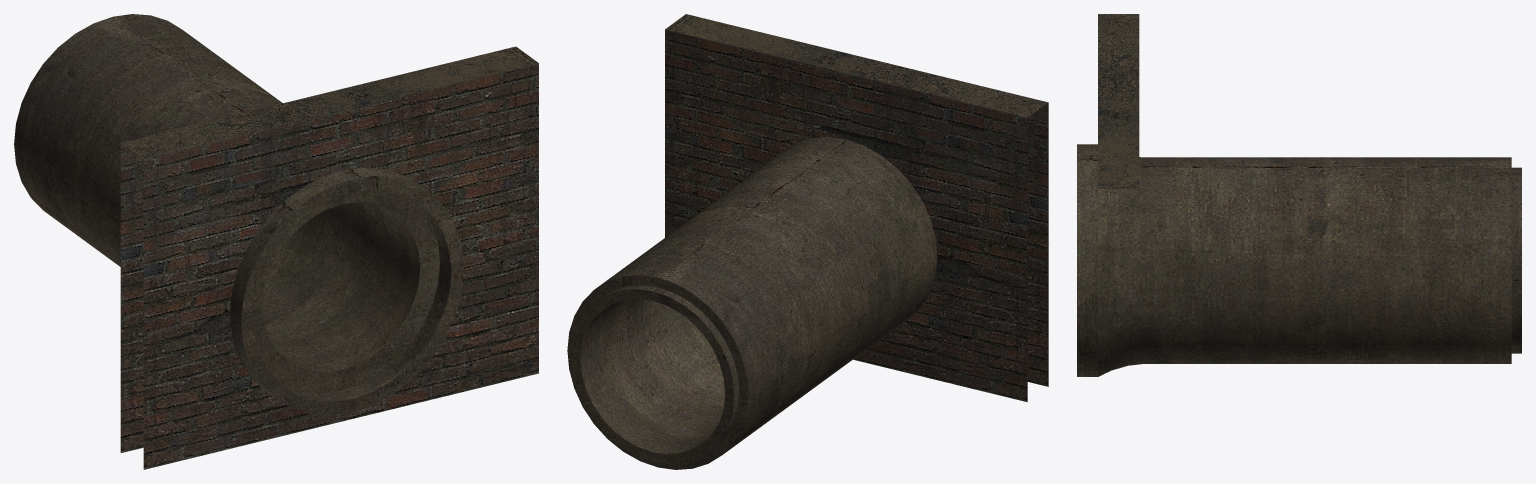
File: wall_hs_1_hole_2.glb
3 renders of one model, left to right at view 1: azimuth 30°, elevation 25°; view 2: azimuth 150°, elevation 25°; view 3: azimuth 270°, elevation 25°, orthographic. The views are drawn at different scales.
Parts seen in each view (by area): view 1: wall_hs_1_hole_2; view 2: wall_hs_1_hole_2; view 3: wall_hs_1_hole_2.
Part boxes in pixels (x1,y1,x2,y2): wall_hs_1_hole_2: [14, 14, 538, 469]; wall_hs_1_hole_2: [567, 14, 1048, 469]; wall_hs_1_hole_2: [1077, 14, 1521, 376].
Bounding box in the file's own units: 4 × 3 × 4.3.
Materials: 3 (3 with a texture image).
